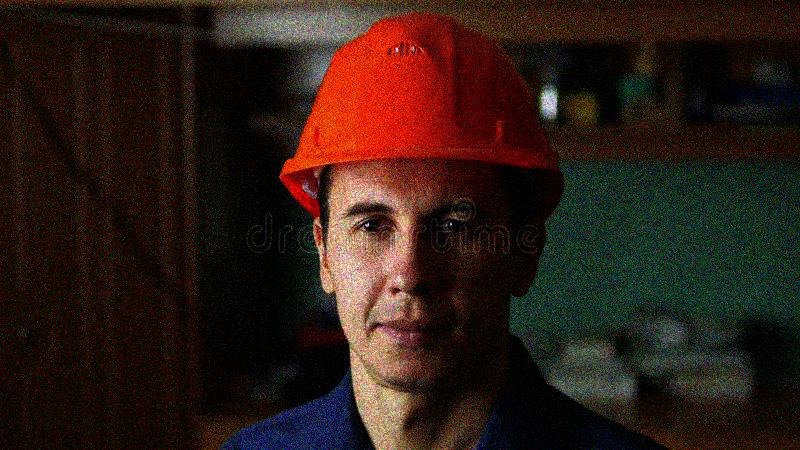helmet: (278, 11, 566, 388)
